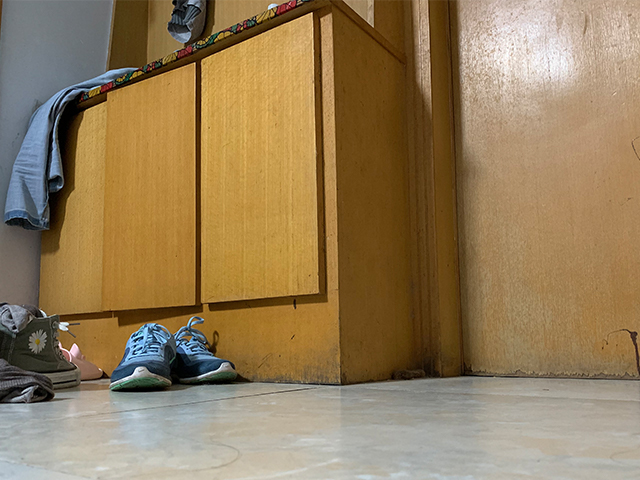cabinet: (37, 1, 423, 387)
